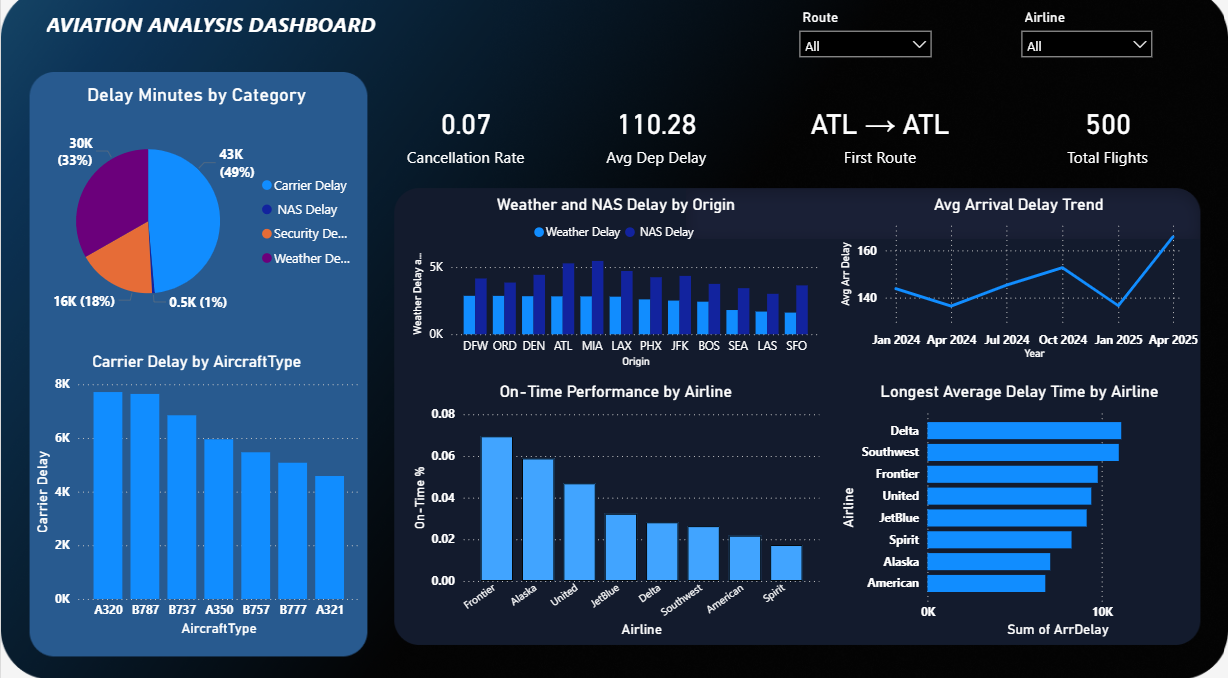

The page's visual inventory and layout, read from the dashboard file:
{"tool":"powerbi","page":{"name":"Page 1","canvas":[1280,720],"ordinal":0},"visuals":[{"type":"pieChart","title":"Delay Minutes by Category","fields":{"Y":["Aviation Dataset.Total Carrier Delay","CountNonNull(Aviation Dataset.NAS Delay)","Aviation Dataset.Total Security Delay","Aviation Dataset.Total Weather Delay"]},"box":[30,95.7,348.6,264.3],"z":3},{"type":"lineChart","title":"Avg Arrival Delay Trend","fields":{"Y":["Aviation Dataset.Avg Arr Delay"],"Category":["Aviation Dataset.FlightDate.Variation.Date Hierarchy.Year","Aviation Dataset.FlightDate.Variation.Date Hierarchy.Quarter"]},"box":[885.7,215.7,365.7,175.7],"z":6},{"type":"columnChart","title":"On-Time Performance by Airline","fields":{"Y":["Aviation Dataset.On-Time %"],"Category":["Aviation Dataset.Airline"]},"box":[402.9,418.6,482.9,270],"z":7},{"type":"barChart","title":"Longest Average Delay Time by Airline","fields":{"Y":["Sum(Aviation Dataset.ArrDelay)"],"Category":["Aviation Dataset.Airline"]},"box":[887.1,418.6,365.7,257.1],"z":8},{"type":"clusteredColumnChart","title":"Weather and NAS Delay by Origin","fields":{"Y":["Aviation Dataset.Total Weather Delay","Aviation Dataset.Total NAS Delay"],"Category":["Aviation Dataset.Origin"]},"box":[402.9,215.7,482.9,175.7],"z":9},{"type":"card","fields":{"Values":["Aviation Dataset.Total Flights"]},"box":[1070,95.7,164.3,102.9],"z":10},{"type":"card","fields":{"Values":["Min(Aviation Dataset.Route)"]},"box":[821.4,95.7,187.1,102.9],"z":11},{"type":"card","fields":{"Values":["Aviation Dataset.Avg Dep Delay"]},"box":[601.4,95.7,161.4,102.9],"z":12},{"type":"columnChart","title":"Carrier Delay by AircraftType","fields":{"Category":["Aviation Dataset.AircraftType"],"Y":["Aviation Dataset.Total Carrier Delay"]},"box":[30,375.7,348.6,300],"z":13},{"type":"slicer","fields":{"Values":["Aviation Dataset.Route"]},"box":[821.4,12.9,157.1,65.7],"z":14},{"type":"slicer","fields":{"Values":["Aviation Dataset.Airline"]},"box":[1052.9,12.9,155.7,65.7],"z":15},{"type":"card","fields":{"Values":["Aviation Dataset.Cancellation Rate"]},"box":[402.9,95.7,161.4,102.9],"z":16},{"type":"textbox","box":[30,12.9,392.9,65.7],"z":17}]}

Visuals, with their boxes in screenshot pixels (x1, y1, x2, y2), scaled from the page's 1280x720 canvas onto the 1228x678 screenshot:
"Delay Minutes by Category" pieChart: Rect(29, 90, 363, 339)
"Avg Arrival Delay Trend" lineChart: Rect(850, 203, 1201, 369)
"On-Time Performance by Airline" columnChart: Rect(387, 394, 850, 648)
"Longest Average Delay Time by Airline" barChart: Rect(851, 394, 1202, 636)
"Weather and NAS Delay by Origin" clusteredColumnChart: Rect(387, 203, 850, 369)
card - Aviation Dataset.Total Flights: Rect(1027, 90, 1184, 187)
card - Min(Aviation Dataset.Route): Rect(788, 90, 968, 187)
card - Aviation Dataset.Avg Dep Delay: Rect(577, 90, 732, 187)
"Carrier Delay by AircraftType" columnChart: Rect(29, 354, 363, 636)
slicer - Aviation Dataset.Route: Rect(788, 12, 939, 74)
slicer - Aviation Dataset.Airline: Rect(1010, 12, 1160, 74)
card - Aviation Dataset.Cancellation Rate: Rect(387, 90, 541, 187)
textbox: Rect(29, 12, 406, 74)
